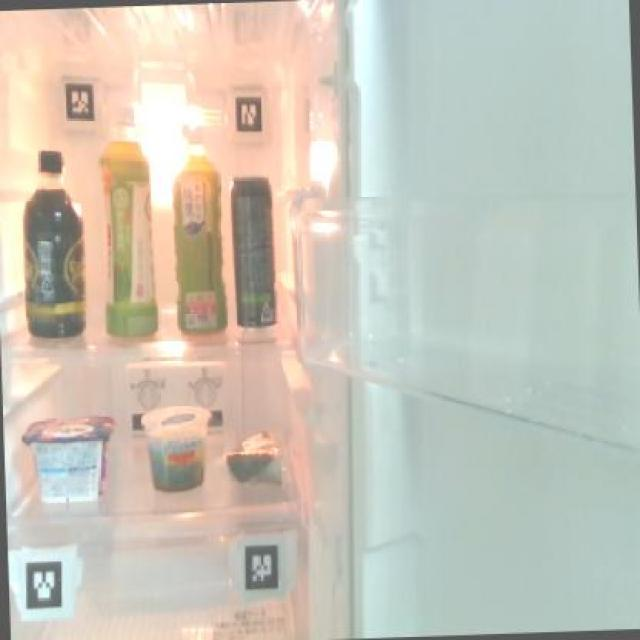coffee: (16, 142, 90, 340)
energy_drink: (228, 165, 280, 330)
pudding: (142, 404, 210, 493)
rice_ball: (220, 429, 288, 491)
tea_a: (166, 118, 229, 334)
tea_i: (94, 102, 162, 340)
yogurt: (20, 412, 117, 506)
